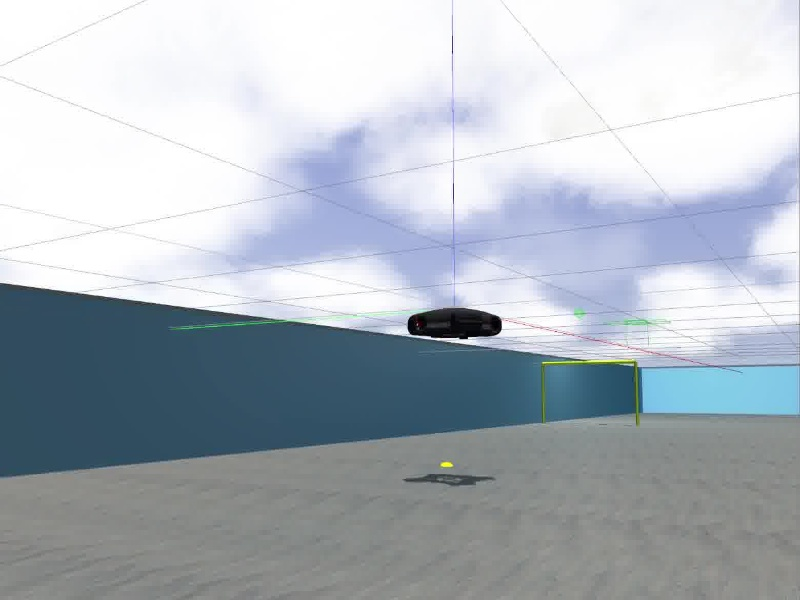gate: (540, 359, 642, 426)
